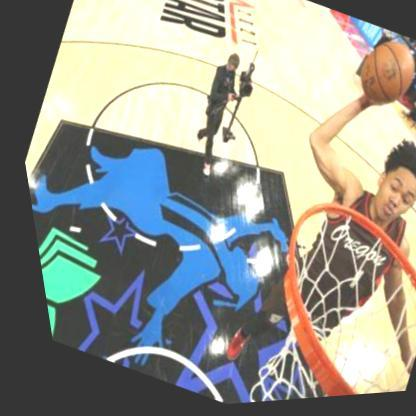basketball: (341, 35, 416, 124)
